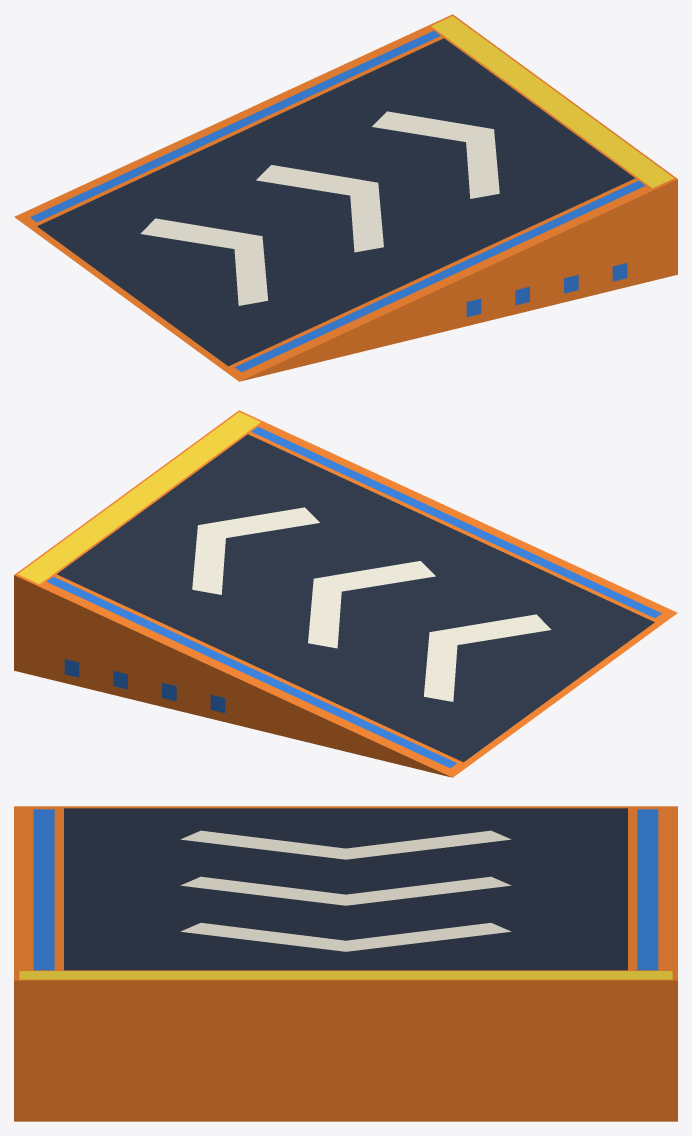
The model's file is ramp.glb.
3 views of the same model, one above another, from view 1: azimuth 30°, elevation 25°; view 2: azimuth 150°, elevation 25°; view 3: azimuth 270°, elevation 25° (orthographic). The views are drawn at different scales.
Parts seen in each view (by area): view 1: Grippy dark runway, ramp_core, detail_Vanilla plastic, detail_Blueberry, Bright launch lip; view 2: Grippy dark runway, ramp_core, detail_Vanilla plastic, detail_Blueberry, Bright launch lip; view 3: ramp_core, Grippy dark runway, detail_Vanilla plastic, detail_Blueberry, Bright launch lip.
Part boxes in pixels (bbox=[...]): Grippy dark runway: bbox=[37, 38, 634, 366]; ramp_core: bbox=[14, 14, 677, 381]; detail_Vanilla plastic: bbox=[140, 111, 499, 305]; detail_Blueberry: bbox=[30, 31, 645, 372]; Bright launch lip: bbox=[431, 16, 673, 188]; Grippy dark runway: bbox=[57, 434, 654, 762]; ramp_core: bbox=[14, 410, 677, 777]; detail_Vanilla plastic: bbox=[192, 507, 551, 701]; detail_Blueberry: bbox=[46, 427, 661, 768]; Bright launch lip: bbox=[18, 412, 260, 584]; ramp_core: bbox=[14, 806, 677, 1121]; Grippy dark runway: bbox=[64, 808, 627, 970]; detail_Vanilla plastic: bbox=[180, 830, 511, 951]; detail_Blueberry: bbox=[33, 809, 658, 970]; Bright launch lip: bbox=[19, 971, 672, 979].
Size of the model in its own units: 7.2 by 1.5 by 6.4.
